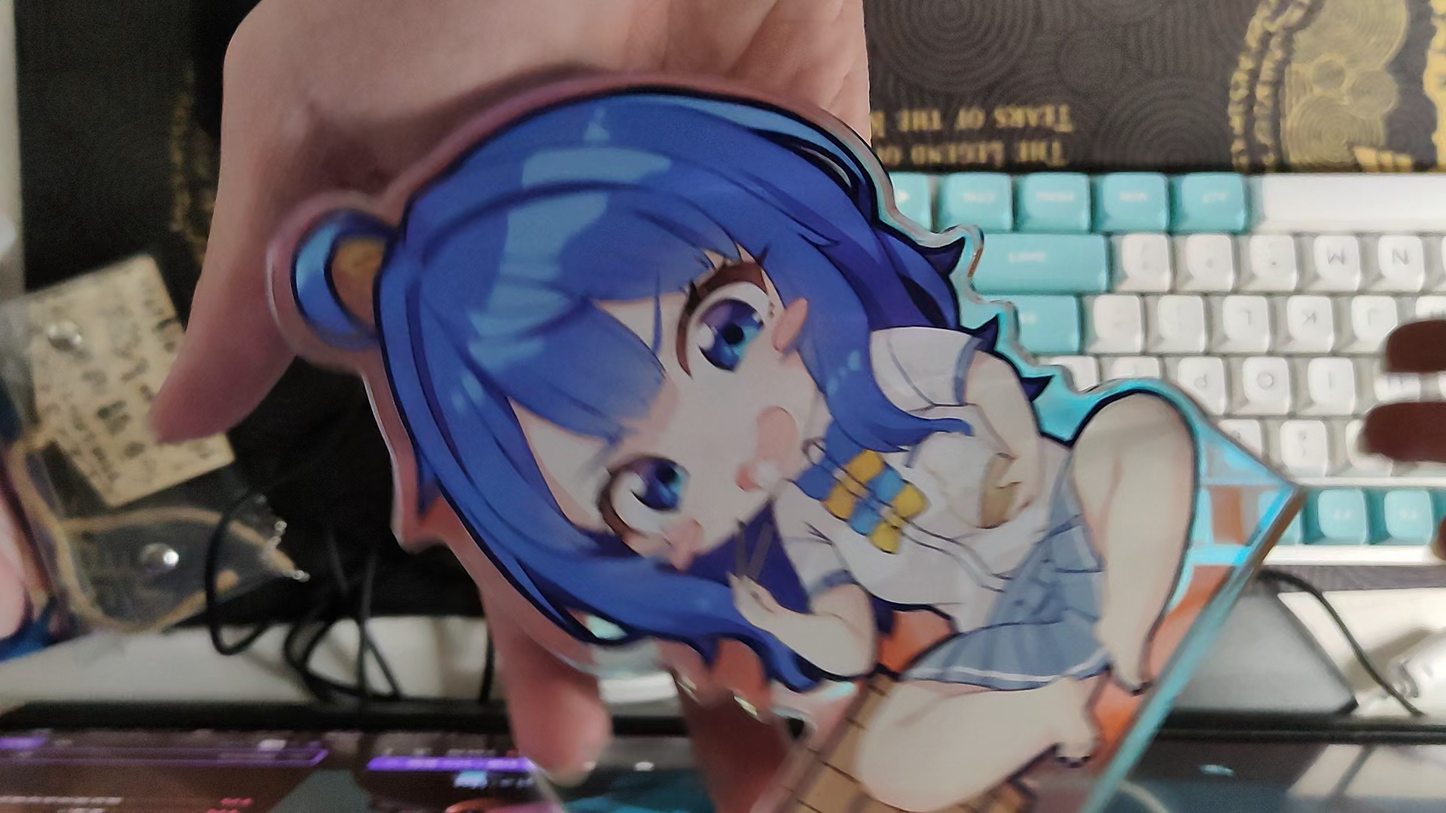Yanami-anna: (266, 68, 1315, 813)
